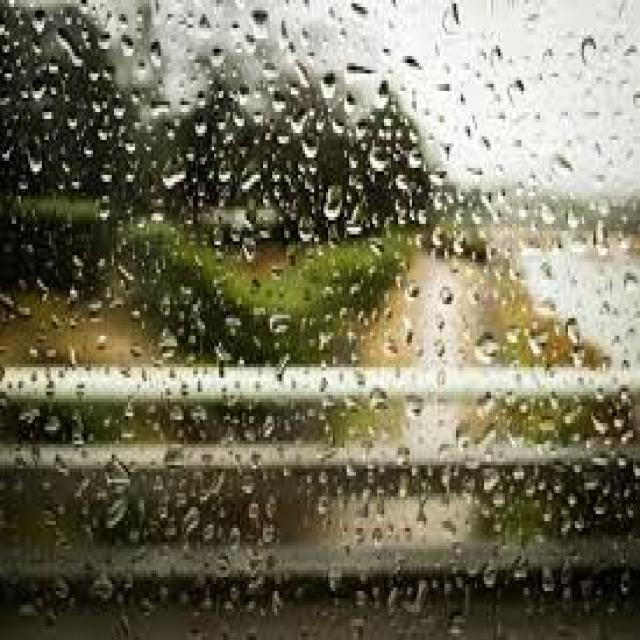raindrop: (316, 169, 357, 236), (49, 22, 92, 74), (155, 144, 195, 199), (472, 323, 508, 378), (246, 0, 278, 54), (295, 123, 329, 169), (341, 58, 382, 92), (20, 138, 50, 182), (401, 386, 428, 431), (366, 380, 396, 420), (27, 67, 54, 111)
